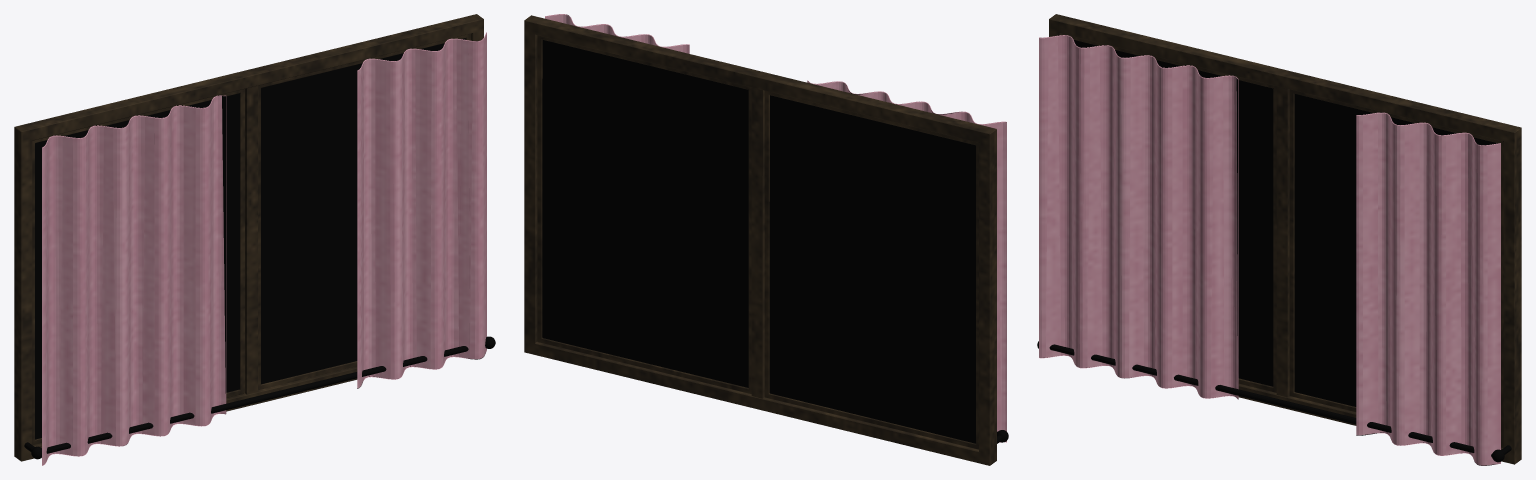
The model's file is WindowFactory65507.spawn_asset2.glb.
3 renders of one model, left to right at view 1: azimuth 30°, elevation 25°; view 2: azimuth 150°, elevation 25°; view 3: azimuth 330°, elevation 25°, orthographic.
Visible parts, largest first — view 1: WindowFactory(65507).spawn_asset(2).001; view 2: WindowFactory(65507).spawn_asset(2).001; view 3: WindowFactory(65507).spawn_asset(2).001.
Part boxes in pixels (box(x1,y1,x2,y2)): WindowFactory(65507).spawn_asset(2).001: box(14, 14, 495, 465); WindowFactory(65507).spawn_asset(2).001: box(524, 14, 1008, 465); WindowFactory(65507).spawn_asset(2).001: box(1037, 14, 1521, 465).
Bounding box in the file's own units: 2.09 × 1.42 × 0.1768.
Materials: 1 (1 with a texture image).
